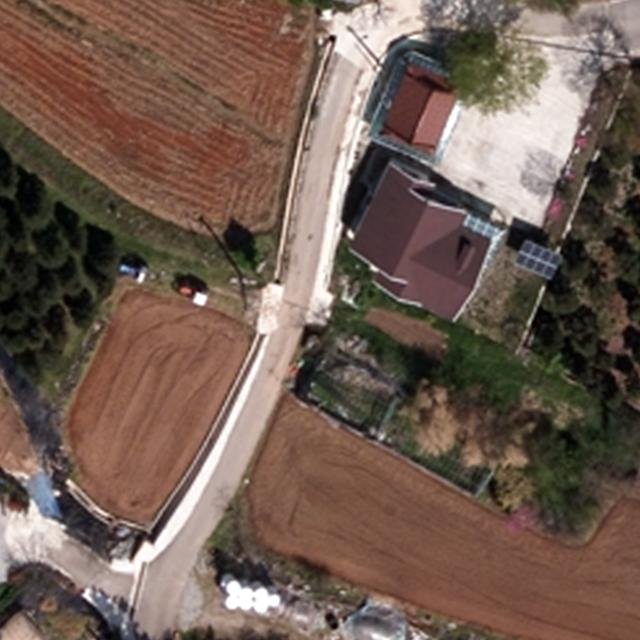panel: (514, 237, 563, 280)
